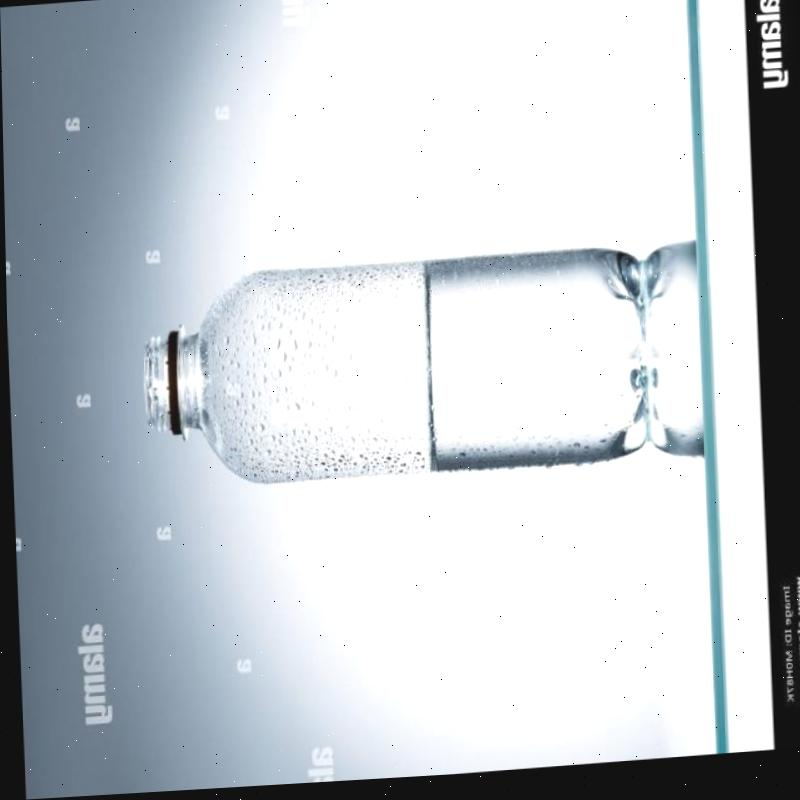botella: (138, 239, 647, 525)
